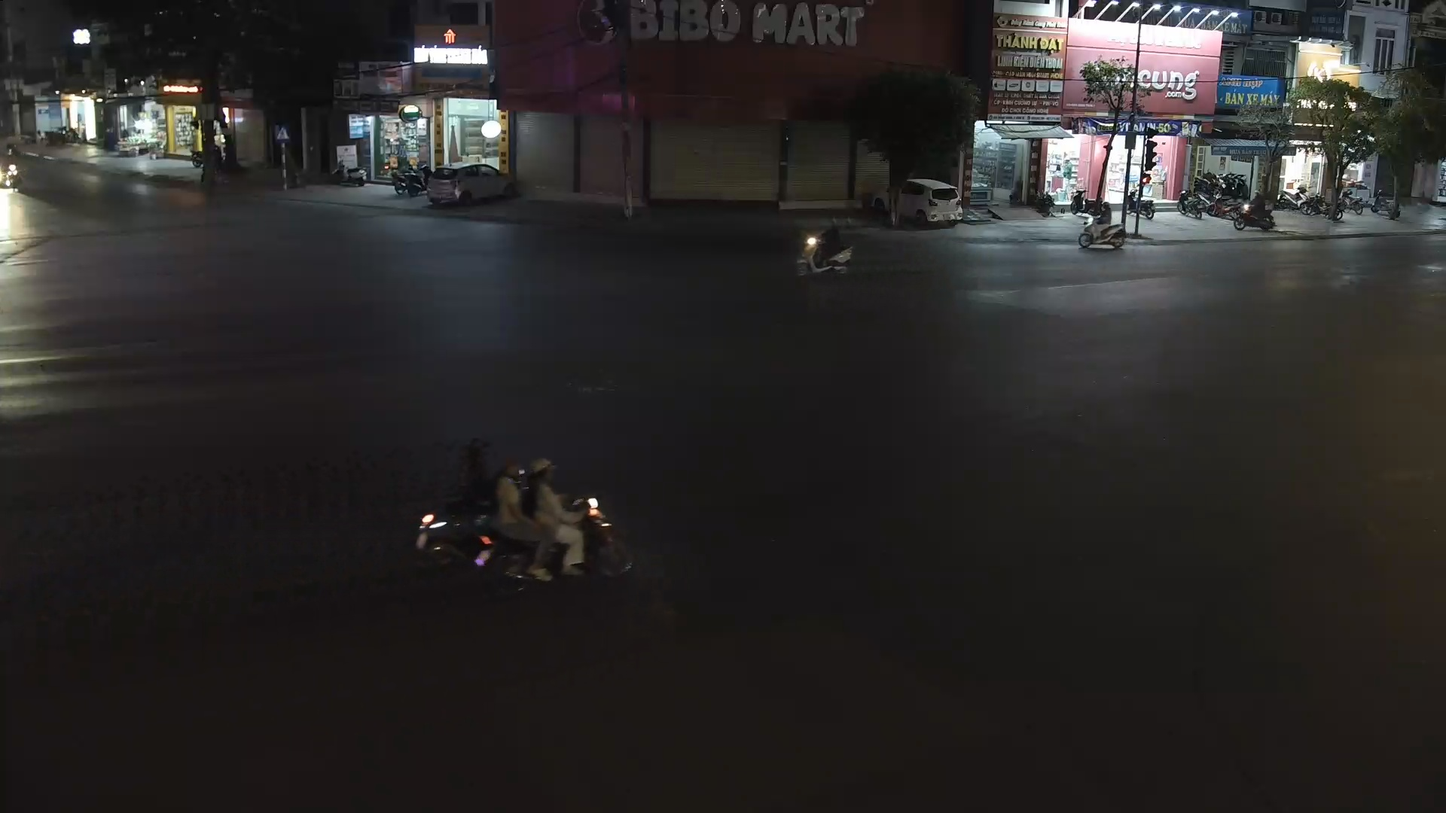motorbike: (471, 453, 636, 596), (412, 434, 510, 576), (793, 223, 857, 278), (1077, 201, 1129, 251)
